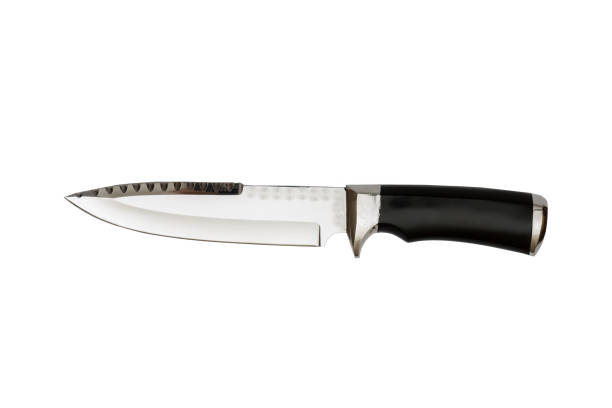knife: (63, 179, 551, 261)
